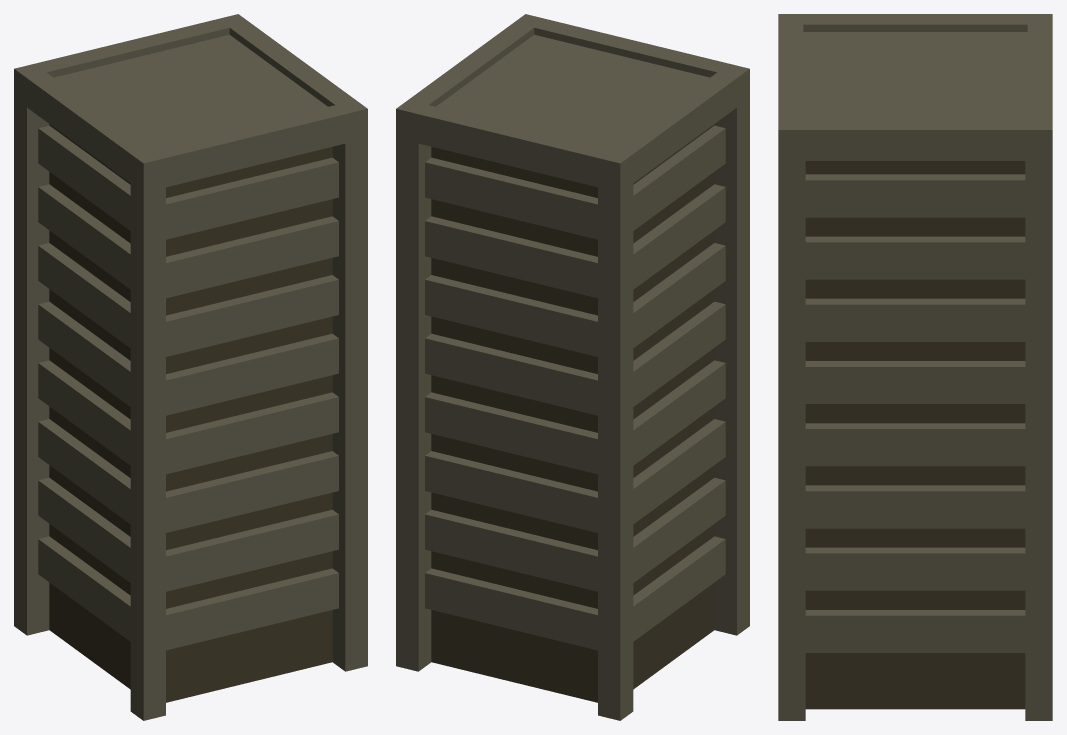
Rendered from building1.fbx.
The picture shows the model from 3 angles, left to right: view 1: azimuth 30°, elevation 25°; view 2: azimuth 150°, elevation 25°; view 3: azimuth 270°, elevation 25°; orthographic projection. The views are drawn at different scales.
Parts seen in each view (by area): view 1: Cube; view 2: Cube; view 3: Cube.
Part boxes in pixels (x1,y1,x2,y2): Cube: (14,14,367,720); Cube: (396,14,749,720); Cube: (778,14,1052,720).
Size of the model in its own units: 400 by 950 by 400.
